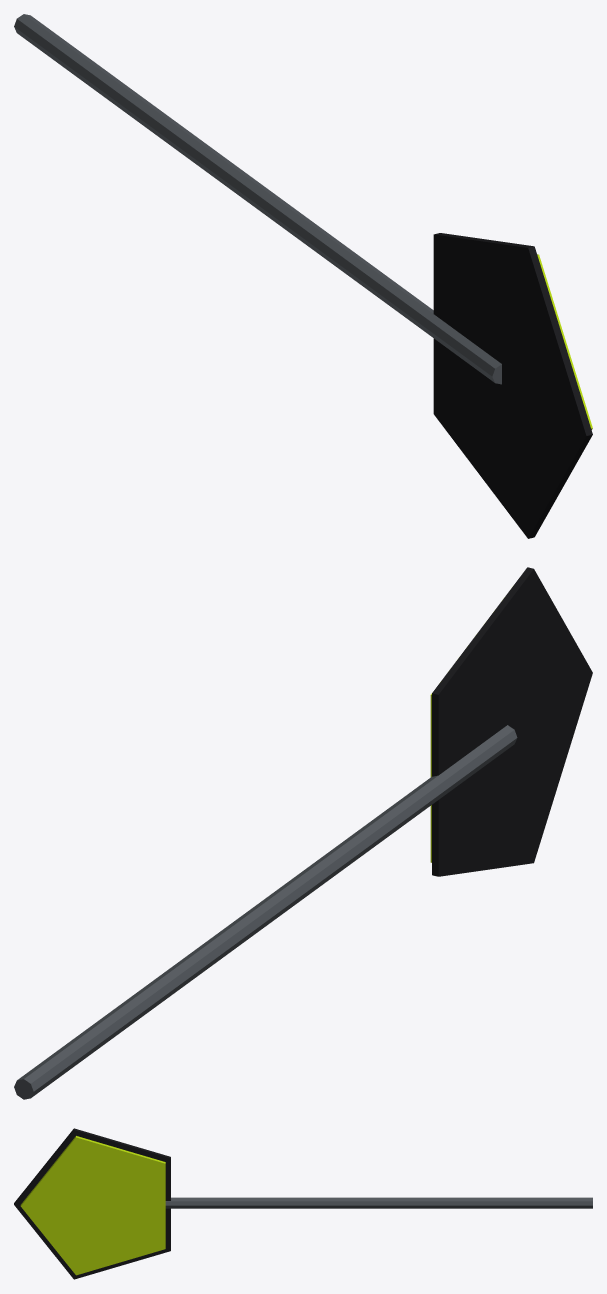
File: sign_us_s1_1.obj
3 views of the same model, one above another, from view 1: azimuth 30°, elevation 25°; view 2: azimuth 150°, elevation 25°; view 3: azimuth 270°, elevation 25° (orthographic). The views are drawn at different scales.
Visible parts, largest first — view 1: sign_us_s1_1_border, sign_us_s1_1_post; view 2: sign_us_s1_1_border, sign_us_s1_1_post; view 3: sign_us_s1_1_field, sign_us_s1_1_post, sign_us_s1_1_border.
Part boxes in pixels (x1=…): sign_us_s1_1_border: x1=433, y1=233, x2=592, y2=538; sign_us_s1_1_post: x1=14, y1=14, x2=501, y2=384; sign_us_s1_1_border: x1=432, y1=567, x2=592, y2=876; sign_us_s1_1_post: x1=14, y1=725, x2=517, y2=1099; sign_us_s1_1_field: x1=20, y1=1136, x2=165, y2=1275; sign_us_s1_1_post: x1=165, y1=1197, x2=592, y2=1208; sign_us_s1_1_border: x1=14, y1=1128, x2=170, y2=1279.
Bounding box in the file's own units: 0.07 × 0.856 × 3.
